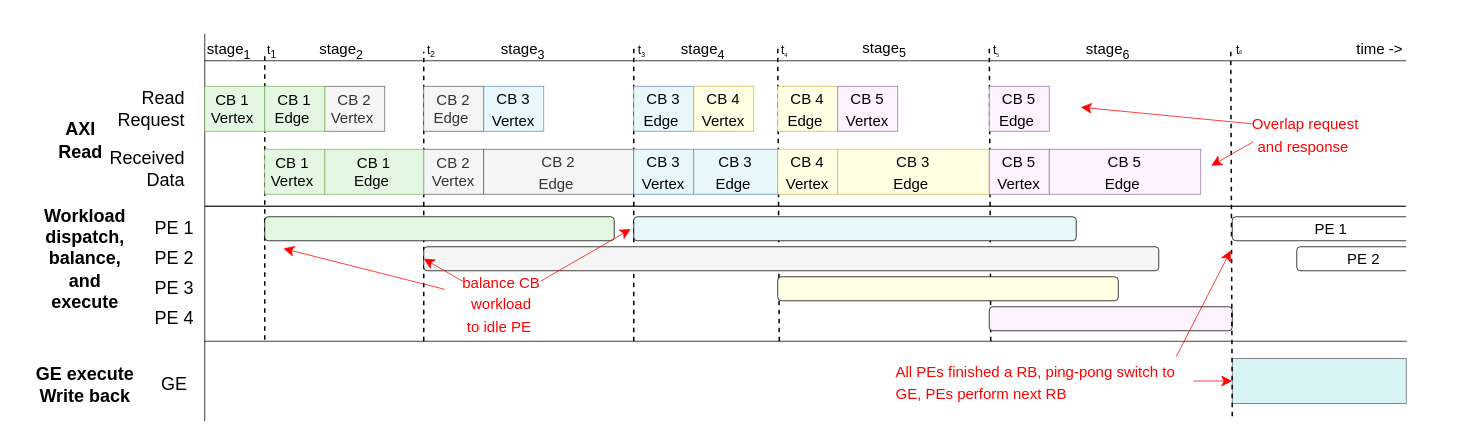
Image size: 1463x447. Some labels were removed from this diagram. The centre of each missing label's shape, as x and y in pixels:
"GE & Write Back RB 1" goes at point (1318, 380).
"PE 1 <:> CB 1" goes at point (439, 228).
"PE 1 <:> CB 3" goes at point (854, 228).
"PE 2 <:> CB 2" goes at point (790, 258).
"PE 3 <:> CB 4" goes at point (947, 288).
"PE 4 <:> CB 5" goes at point (1110, 318).
